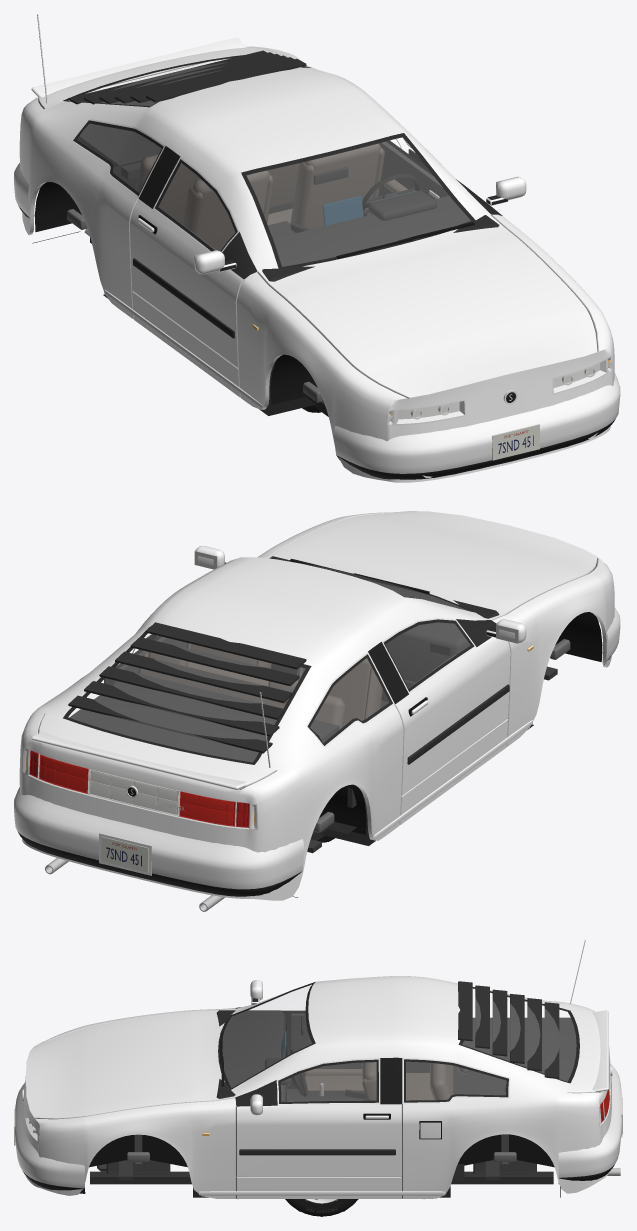
The model's file is coupe.glb.
3 renders of one model, top to bottom at view 1: azimuth 30°, elevation 25°; view 2: azimuth 150°, elevation 25°; view 3: azimuth 270°, elevation 25°, orthographic. The views are drawn at different scales.
Parts seen in each view (by area): view 1: LOD0; view 2: LOD0; view 3: LOD0, WHEEL0.
Boxes of the visible parts, x1,y1,x2,y2 form: LOD0: (14, 14, 620, 482); LOD0: (14, 511, 620, 911); LOD0: (14, 940, 622, 1199); WHEEL0: (285, 1199, 357, 1216).
Size of what is drawn, in the model's own units: 2.13 by 1.82 by 4.4.
